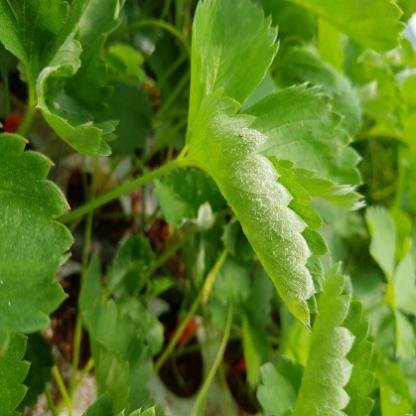Strawberry_Powdery_Mildew_Leaf: (179, 86, 331, 329), (288, 259, 378, 415), (33, 21, 121, 158)
